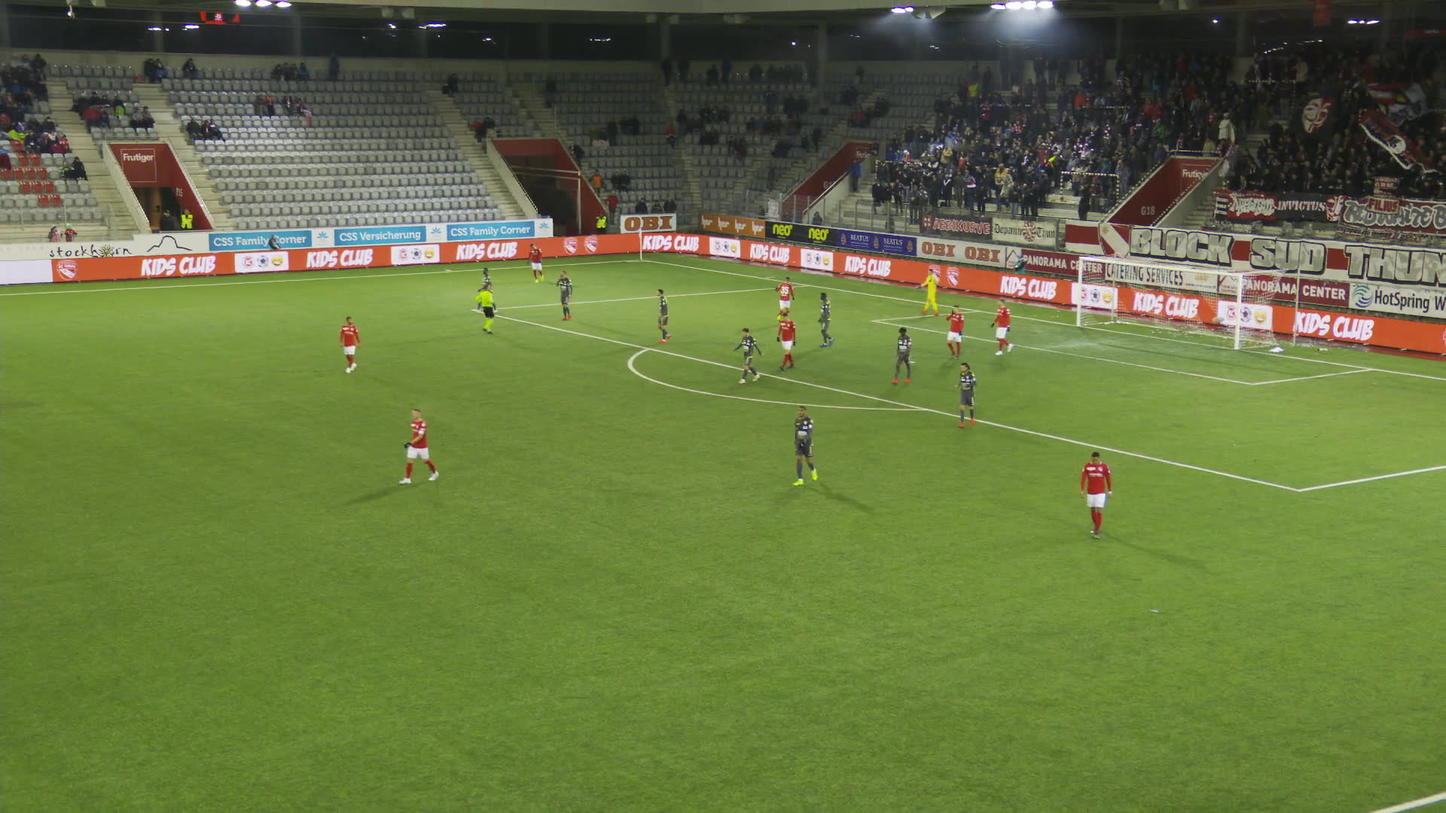ball: (822, 295, 828, 301)
player: (1081, 449, 1114, 537), (400, 403, 436, 481), (793, 405, 817, 486), (955, 364, 978, 428), (737, 326, 762, 382), (653, 286, 678, 342), (991, 297, 1015, 354), (813, 292, 837, 346), (341, 315, 362, 374), (947, 303, 968, 355), (894, 327, 913, 383), (779, 311, 797, 370), (920, 266, 942, 314), (773, 276, 794, 323), (556, 272, 576, 320), (478, 266, 496, 302), (528, 242, 544, 282)
referee: (479, 284, 499, 333)
